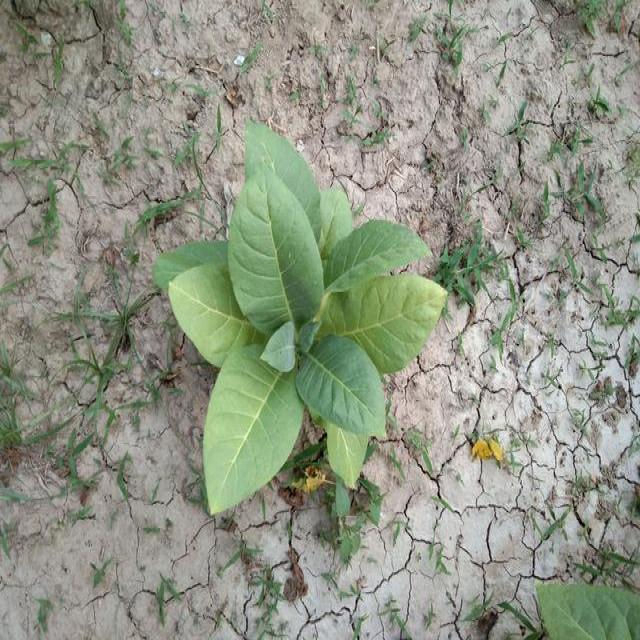crop: (162, 128, 452, 518), (515, 584, 640, 640)
